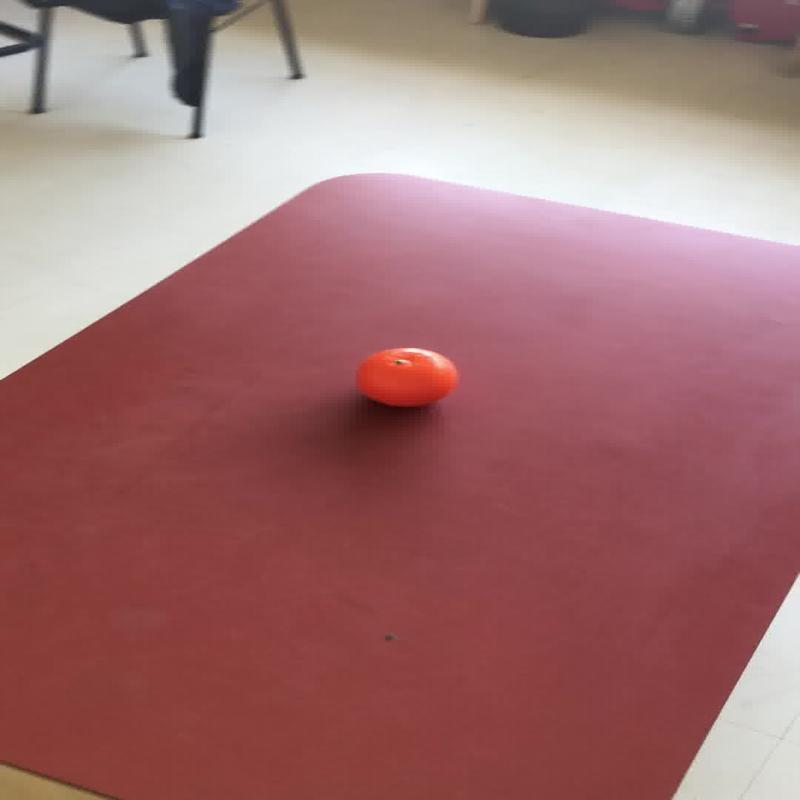orange: (353, 346, 458, 407)
